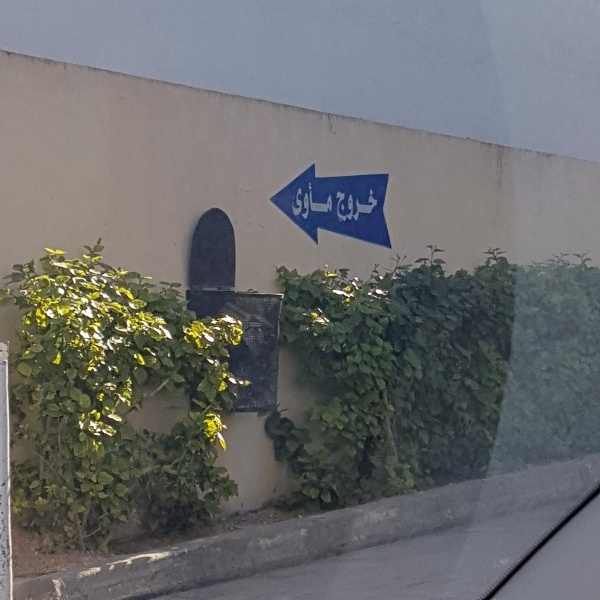text: (305, 181, 320, 223), (321, 181, 334, 223), (337, 189, 352, 223), (353, 189, 368, 223), (294, 181, 304, 223), (369, 189, 379, 223)
